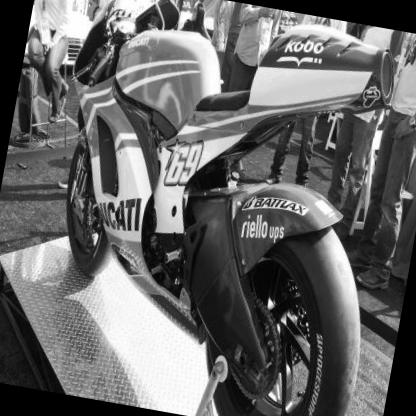moto: (7, 1, 416, 416)
